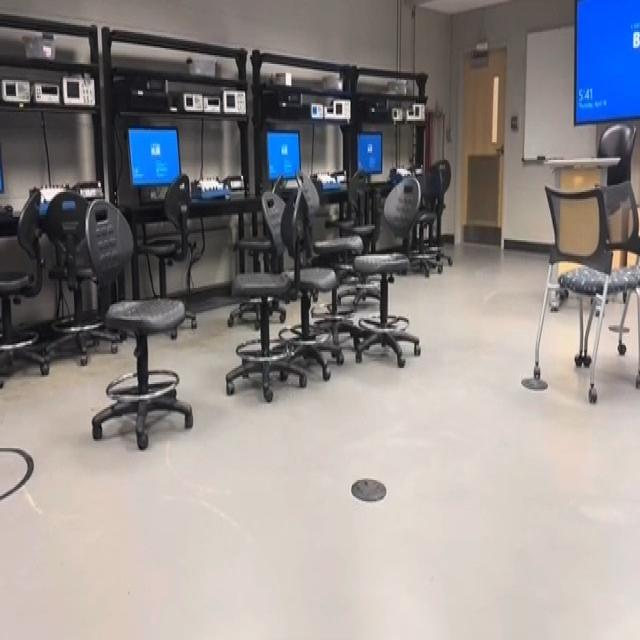drone: (269, 331, 305, 377)
